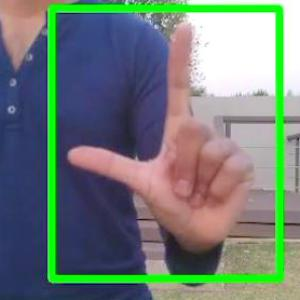land_hand: (57, 10, 268, 260)
